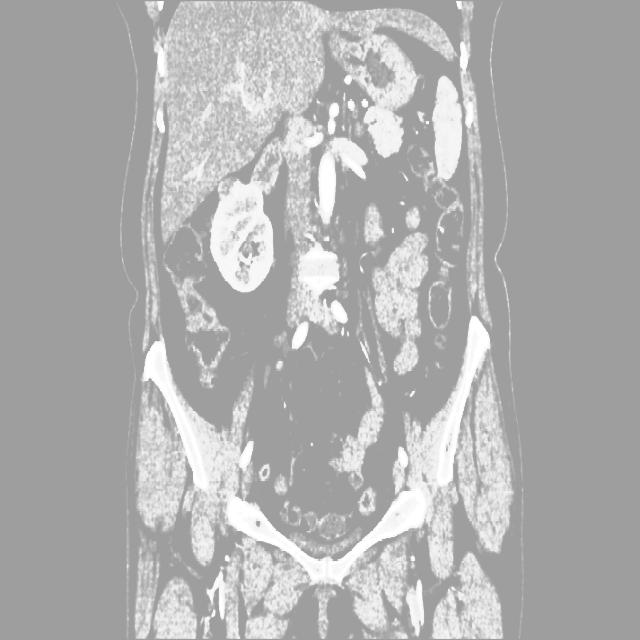TUMOR: (190, 126, 489, 328)
